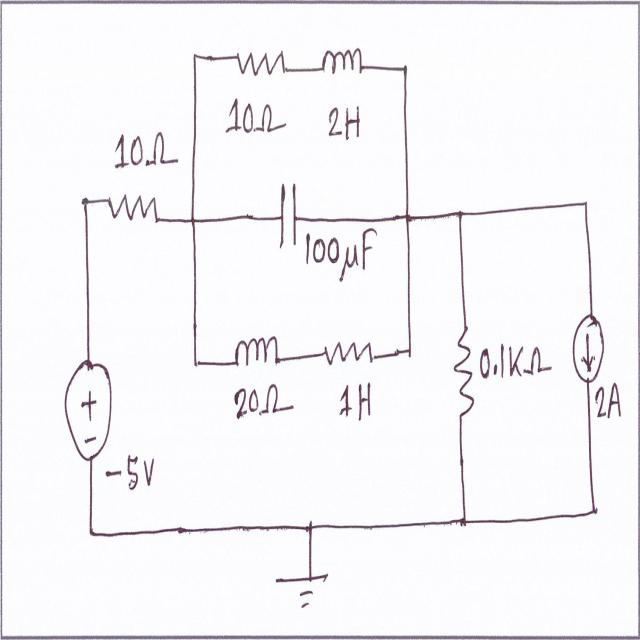capacitor: (278, 179, 298, 260)
current_source: (571, 308, 605, 388)
ground: (271, 558, 335, 611)
inductor: (228, 330, 278, 376), (315, 45, 367, 82)
resistor: (448, 320, 475, 428), (103, 188, 162, 233), (235, 45, 293, 87), (320, 334, 376, 375)
voltage_source: (59, 354, 115, 469)
